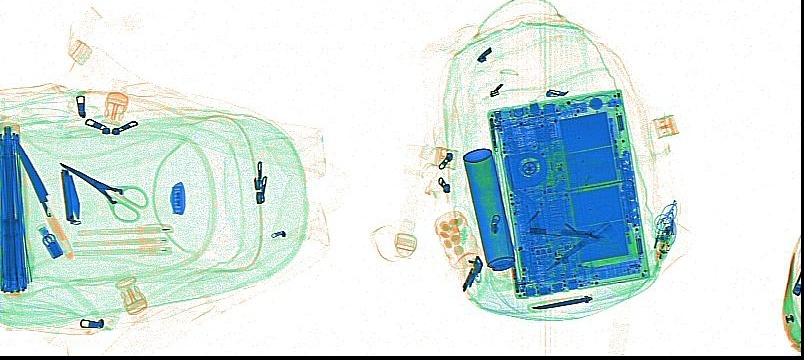knife: (14, 141, 73, 259), (59, 168, 82, 225), (528, 292, 592, 311)
pressure: (461, 146, 515, 272)
scissors: (57, 161, 148, 223), (544, 216, 612, 271)
